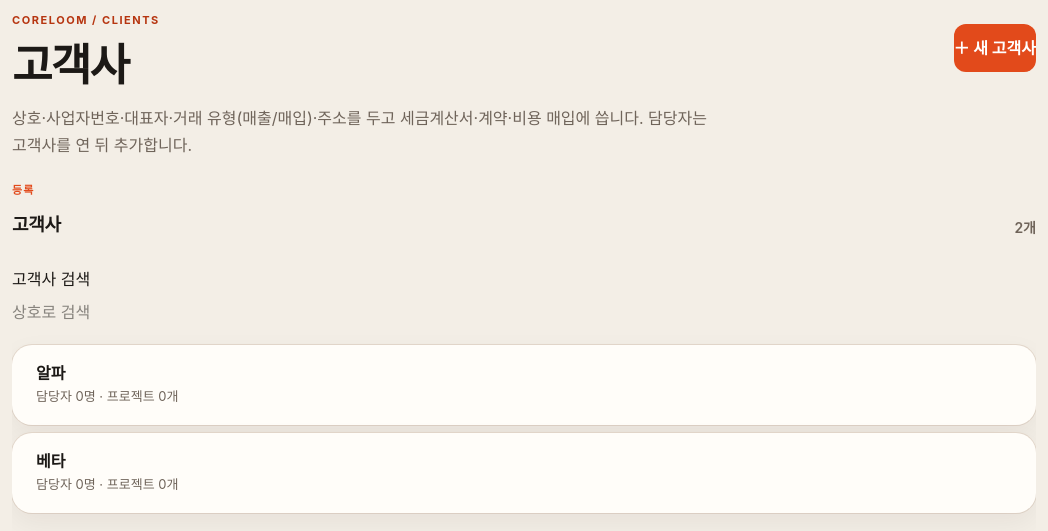
it: sales UX › 고객사 검색은 결과 개수와 빈 결과를 표시한다
Type "감마" into the field labelled "고객사 검색". click: (524, 312)
box: [12,300,1036,325]
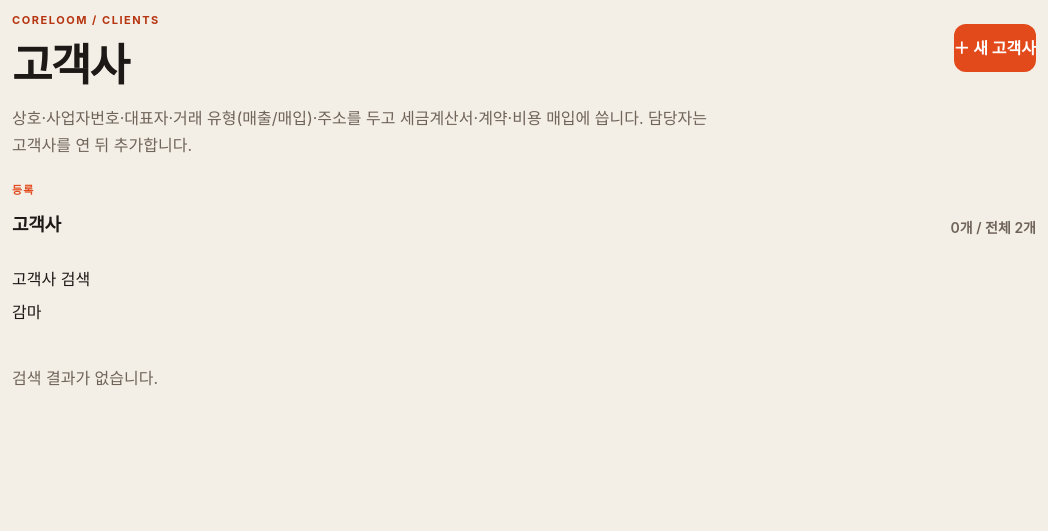
Check: the text "검색 결과가 없습니다." is shown, box [12,368,158,388]
Check: the text "0개 / 전체 2개" is shown, box [951,218,1036,239]
